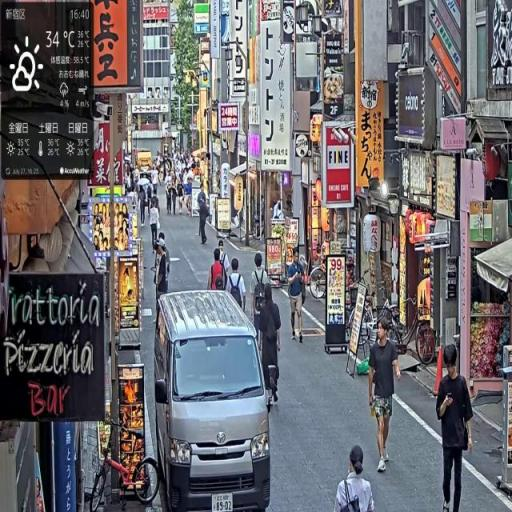person: (436, 346, 476, 512), (369, 318, 404, 474), (258, 282, 283, 407), (336, 445, 378, 512), (288, 250, 308, 343), (227, 257, 248, 316), (154, 233, 171, 300), (198, 184, 211, 248), (209, 248, 226, 292), (150, 193, 161, 251)
